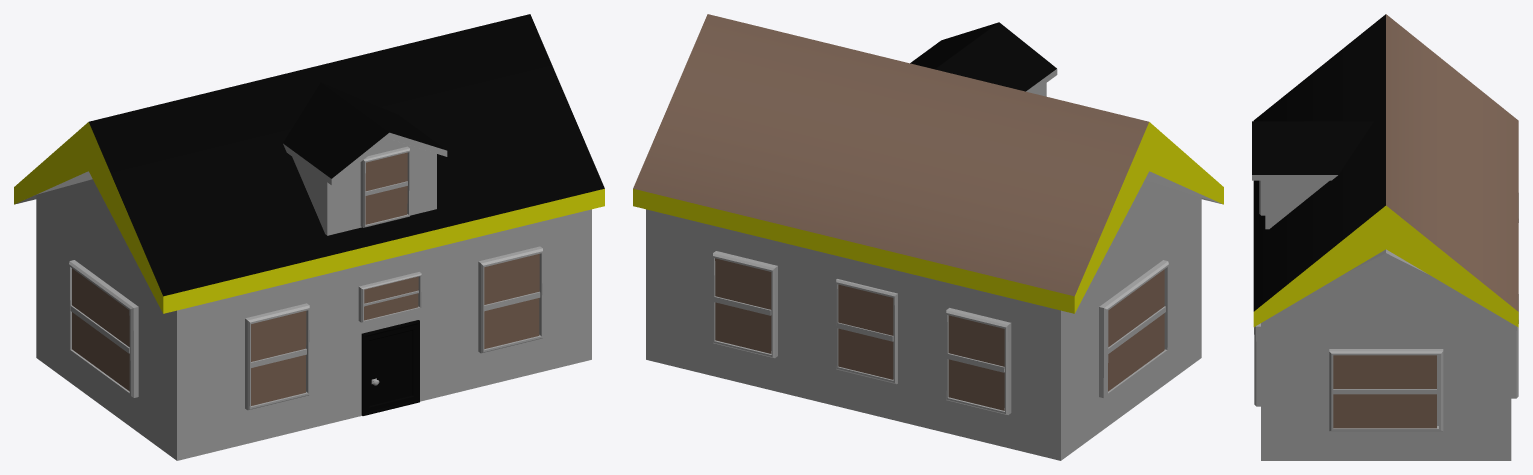
File: House1.fbx
The picture shows the model from 3 angles, left to right: view 1: azimuth 30°, elevation 25°; view 2: azimuth 150°, elevation 25°; view 3: azimuth 270°, elevation 25°; orthographic projection. The views are drawn at different scales.
Visible parts, largest first — view 1: pCube246, pCube247, polySurface570, polySurface567, polySurface566, pSphere30, polySurface568, polySurface569; view 2: pCube246, polySurface570, polySurface572, polySurface574, pCube247, polySurface573; view 3: pCube246, polySurface571, pCube247, polySurface574, polySurface567.
Boxes of the visible parts, x1,y1,x2,y2 form: pCube246: [14, 14, 604, 460]; pCube247: [283, 82, 447, 235]; polySurface570: [69, 260, 138, 397]; polySurface567: [478, 246, 542, 353]; polySurface566: [245, 303, 309, 410]; pSphere30: [361, 320, 419, 415]; polySurface568: [360, 146, 409, 227]; polySurface569: [358, 272, 421, 322]; pCube246: [633, 14, 1223, 460]; polySurface570: [1099, 260, 1168, 398]; polySurface572: [946, 308, 1011, 414]; polySurface574: [713, 251, 777, 358]; pCube247: [910, 22, 1057, 96]; polySurface573: [836, 279, 897, 384]; pCube246: [1253, 14, 1518, 460]; polySurface571: [1329, 349, 1443, 431]; pCube247: [1252, 121, 1373, 229]; polySurface574: [1511, 294, 1518, 398]; polySurface567: [1254, 323, 1260, 406].
Size of the model in its own units: 125 by 79.17 by 73.77.
